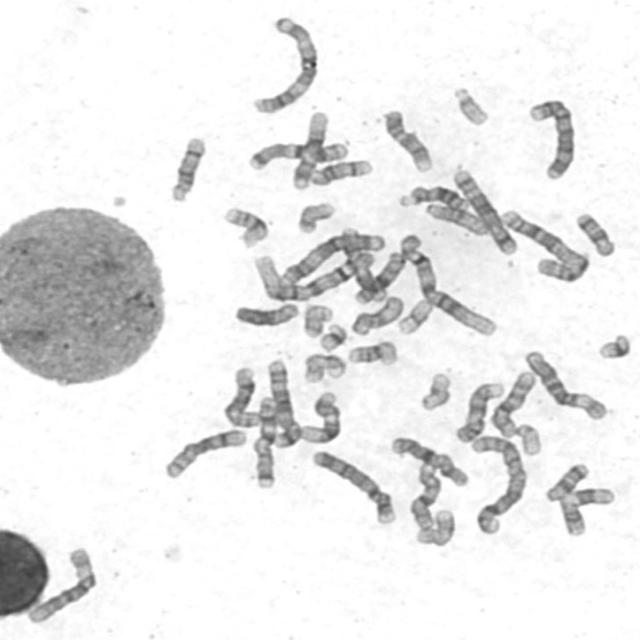A1: (398, 235, 500, 339), (248, 246, 379, 303)
A2: (496, 205, 591, 285), (465, 429, 529, 536)
A3: (247, 12, 321, 115), (275, 228, 386, 286)
B4: (307, 445, 399, 527), (523, 94, 578, 182)
B5: (448, 163, 520, 257), (262, 354, 301, 449)
C10: (487, 367, 538, 439), (406, 460, 442, 532)
C11: (336, 223, 388, 305), (555, 483, 618, 538)
C12: (288, 107, 331, 191), (294, 388, 342, 445)
C6: (520, 346, 610, 422), (22, 542, 98, 626)
C7: (242, 136, 350, 172), (250, 392, 280, 491)
C8: (158, 424, 249, 481), (219, 363, 263, 429)
C9: (378, 105, 434, 173), (451, 378, 506, 444)
D13: (351, 248, 407, 306), (394, 181, 472, 213)
D14: (165, 132, 208, 204), (306, 156, 374, 188)
D15: (346, 292, 406, 337), (422, 199, 491, 237)
E16: (218, 203, 270, 249), (343, 337, 400, 368)
E17: (412, 505, 456, 547), (299, 349, 348, 385)
E18: (571, 208, 617, 259), (540, 459, 591, 503)
F19: (414, 368, 454, 414), (392, 295, 435, 336)
F20: (292, 198, 337, 235), (298, 300, 334, 340)
G21: (593, 330, 634, 361), (314, 319, 349, 353)
G22: (448, 82, 491, 128), (512, 419, 544, 457)
X: (385, 432, 471, 488)
Y: (229, 298, 301, 329)
